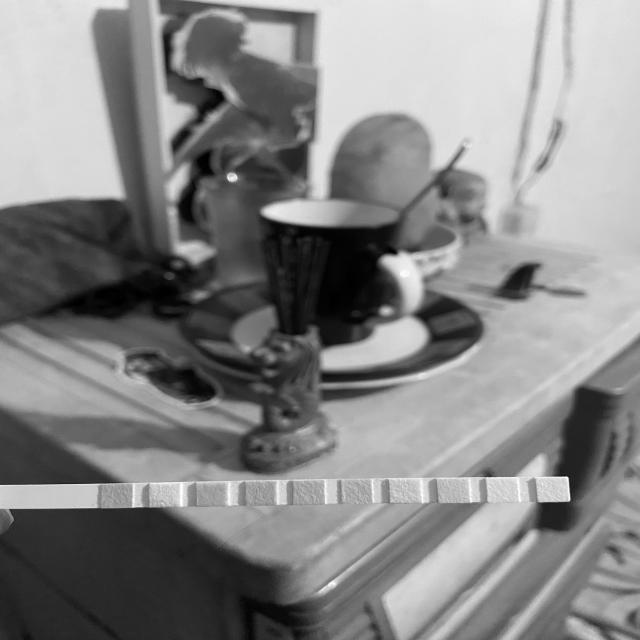Bilirubin: (151, 484, 179, 507)
Blood: (294, 482, 323, 504)
Glucose: (103, 485, 131, 508)
Ketone: (198, 483, 227, 506)
Leukocytes: (539, 478, 568, 502)
Nitrite: (488, 478, 518, 502)
Protein: (391, 480, 419, 503)
SpGravity: (247, 482, 275, 505)
Urobilinogen: (440, 479, 468, 502)
background: (0, 0, 640, 640)
pH: (343, 481, 371, 504)
strip: (0, 476, 570, 509)
